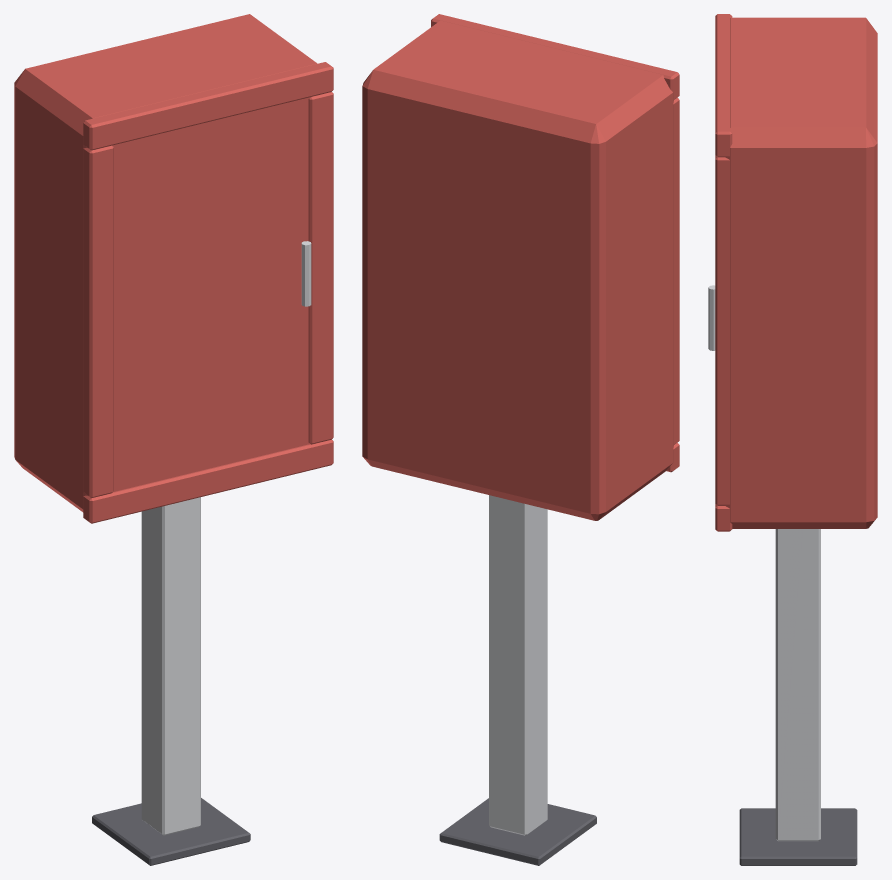
Rendered from petrol-station-and-forecourt-shop-fire-point-cabinet-3b99e7b1__33953.glb.
The picture shows the model from 3 angles, left to right: view 1: azimuth 30°, elevation 25°; view 2: azimuth 150°, elevation 25°; view 3: azimuth 270°, elevation 25°; orthographic projection.
Visible parts, largest first — view 1: fire-point-cabinet, fire-door/red, fire-door/metal; view 2: fire-point-cabinet, fire-door/red; view 3: fire-point-cabinet, fire-door/red, fire-door/metal.
Part boxes in pixels (<box>): fire-point-cabinet: <box>14,14,317,865</box>; fire-door/red: <box>83,62,333,523</box>; fire-door/metal: <box>301,241,311,306</box>; fire-point-cabinet: <box>362,20,673,865</box>; fire-door/red: <box>431,14,679,472</box>; fire-point-cabinet: <box>725,17,877,865</box>; fire-door/red: <box>715,14,732,531</box>; fire-door/metal: <box>708,285,715,350</box>.
Bounding box in the file's own units: 0.5 × 1.5 × 0.299.
